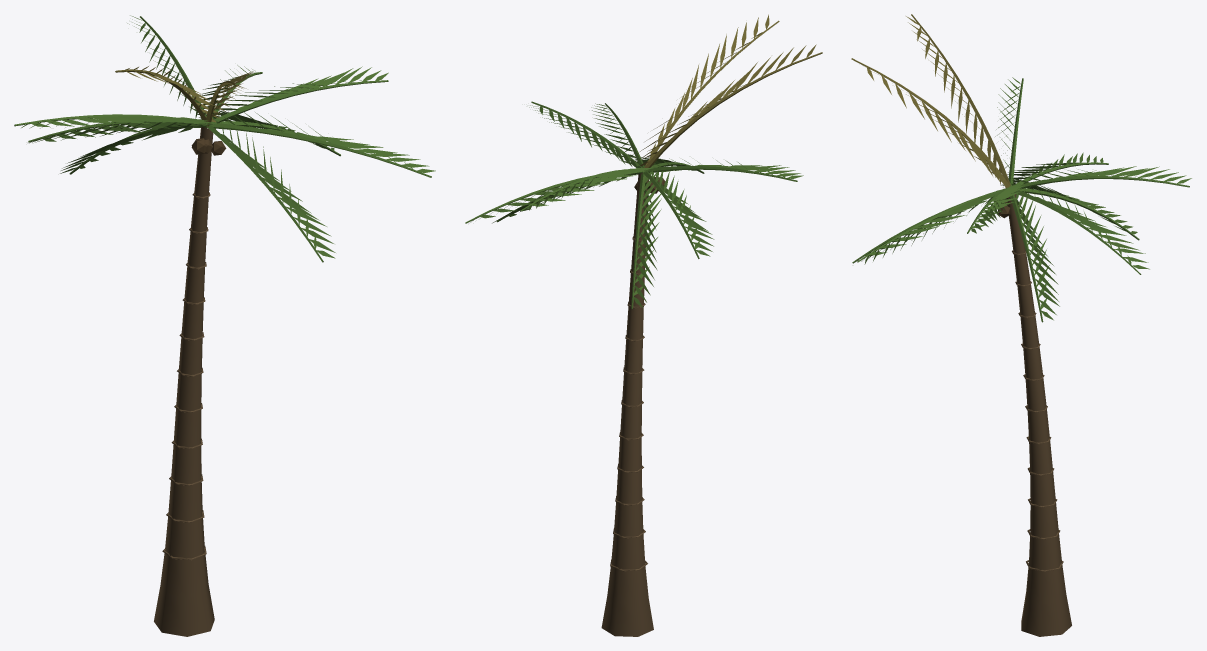
File: palm_tree_a.glb
3 views of the same model, side by side, from view 1: azimuth 30°, elevation 25°; view 2: azimuth 150°, elevation 25°; view 3: azimuth 270°, elevation 25° (orthographic). The views are drawn at different scales.
Visible parts, largest first — view 1: PalmTrunk, PalmCrown, PalmCrownDry, PalmTree; view 2: PalmTrunk, PalmCrown, PalmCrownDry, PalmTree; view 3: PalmTrunk, PalmCrown, PalmCrownDry, PalmTree.
Boxes of the visible parts, box(x1,y1,x2,y2) form: PalmTrunk: box(154, 127, 214, 636); PalmCrown: box(14, 15, 435, 262); PalmCrownDry: box(115, 66, 254, 127); PalmTree: box(162, 138, 226, 560); PalmTrunk: box(601, 173, 653, 636); PalmCrown: box(465, 101, 803, 308); PalmCrownDry: box(638, 14, 822, 167); PalmTree: box(610, 177, 665, 571); PalmTrunk: box(1006, 194, 1071, 636); PalmCrown: box(852, 77, 1191, 322); PalmCrownDry: box(851, 14, 1010, 188); PalmTree: box(996, 201, 1063, 571).
Bounding box in the file's own units: 5.27 × 9.37 × 5.24.
